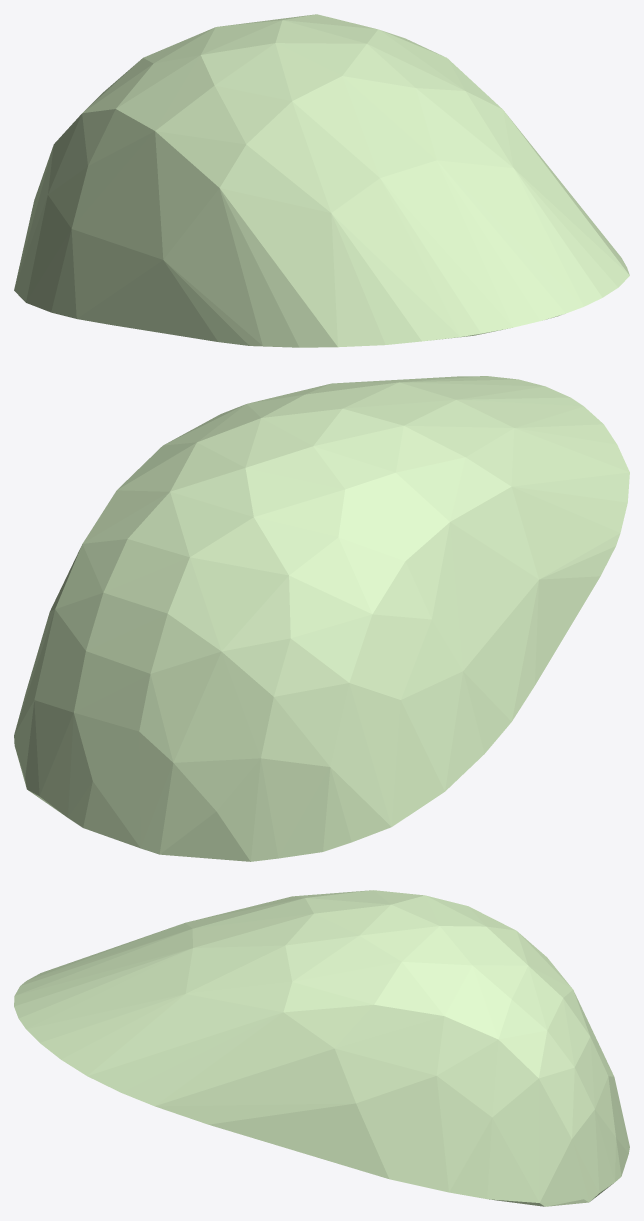
File: kuka_link3_resp_coll_1.dae
3 renders of one model, top to bottom at view 1: azimuth 30°, elevation 25°; view 2: azimuth 150°, elevation 25°; view 3: azimuth 270°, elevation 25°, orthographic. The views are drawn at different scales.
Visible parts, largest first — view 1: Node_0000015C5C912E10; view 2: Node_0000015C5C912E10; view 3: Node_0000015C5C912E10.
Boxes of the visible parts, bbox=[...] form: Node_0000015C5C912E10: bbox=[14, 14, 629, 347]; Node_0000015C5C912E10: bbox=[14, 376, 629, 861]; Node_0000015C5C912E10: bbox=[14, 890, 629, 1206].
Bounding box in the file's own units: 0.1226 × 0.0809 × 0.1877.
